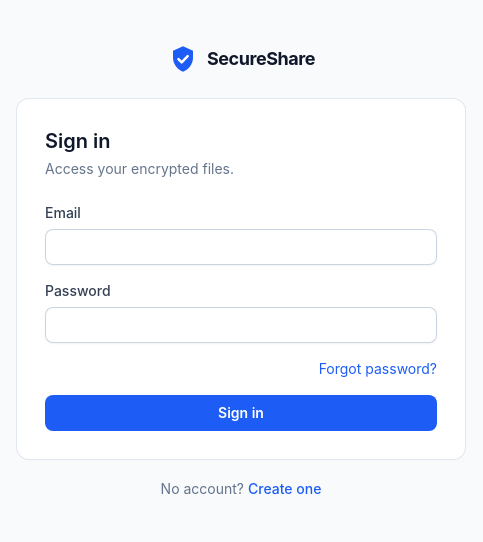
Test case: Login › shows the server message when credentials are rejected
This screenshot has width=483, height=542.
Type "nobody@example.com" into the field labelled "Email".
click(241, 247); type("nobody@example.com")  # box [45,229,437,265]
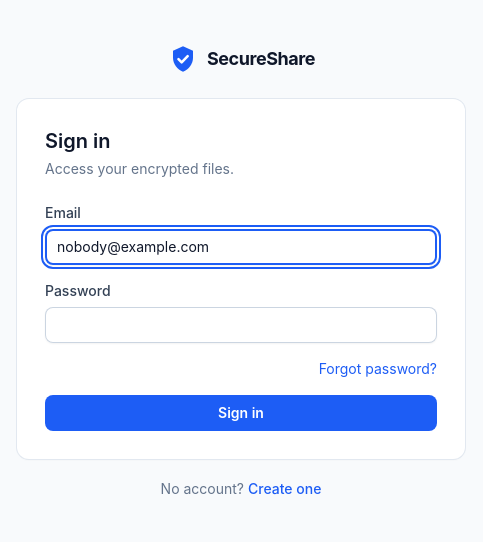
Type "wrong-password" into the password field labelled "Password".
click(241, 325); type("wrong-password")  # box [45,307,437,343]
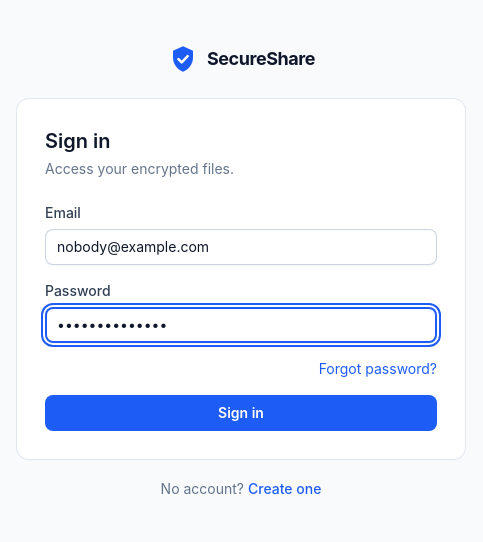
Click the button "Sign in".
click(241, 413)  # box [45,395,437,431]
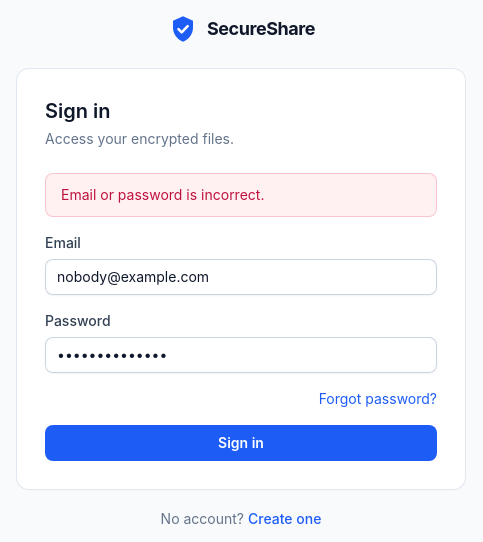
Expected: the message reads "Email or password is incorrect.", [61,186,264,203]
